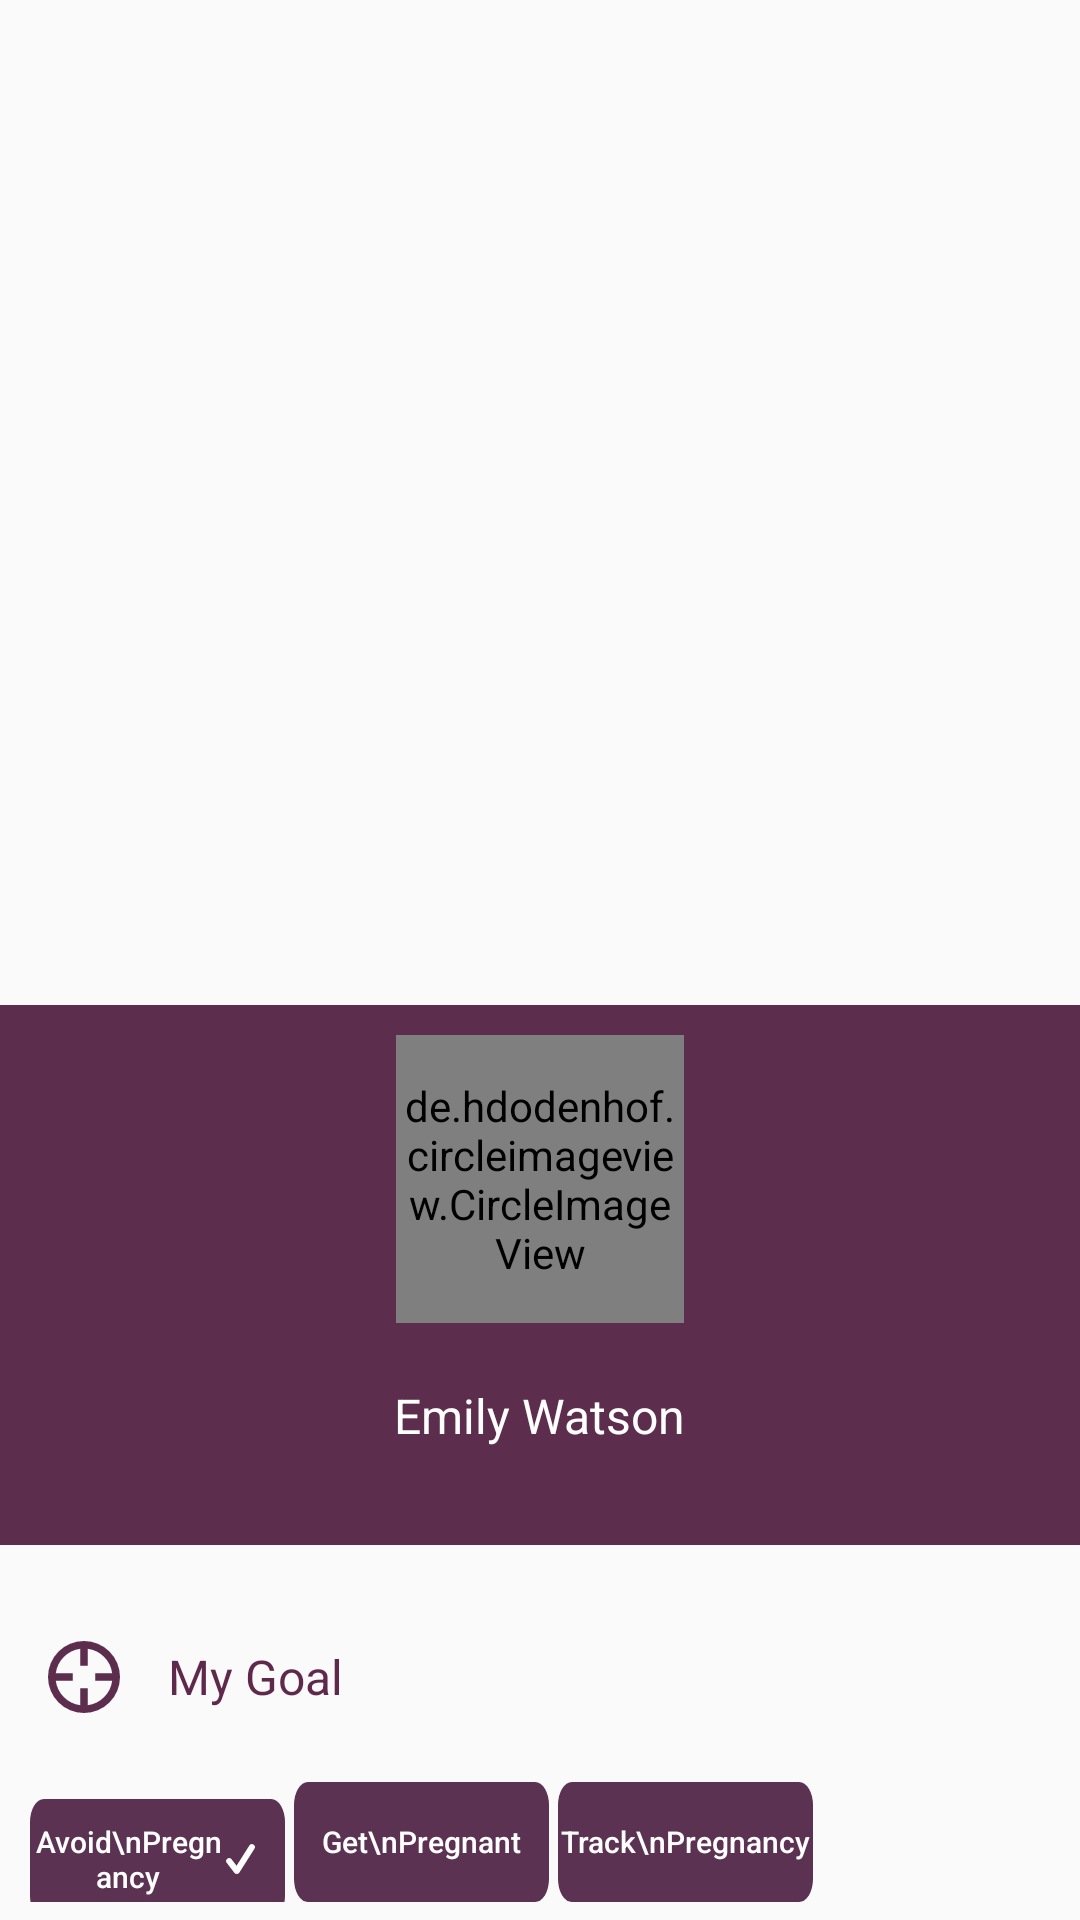

Icons on this 1080×1920 Android screen, each with its box as (x1, y1, x2, y2):
hair cross: (48, 1641, 120, 1713)
